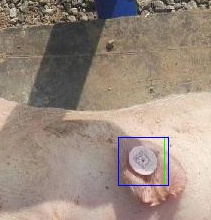text: (118, 137, 164, 185)
